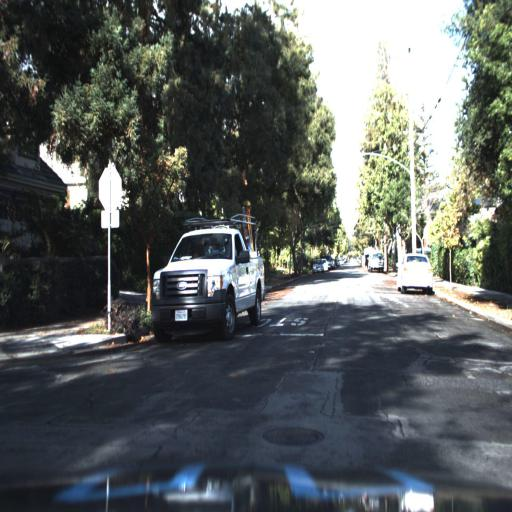car: (137, 193, 273, 348), (366, 245, 389, 280), (309, 258, 325, 279), (309, 259, 325, 278), (327, 256, 336, 271)
